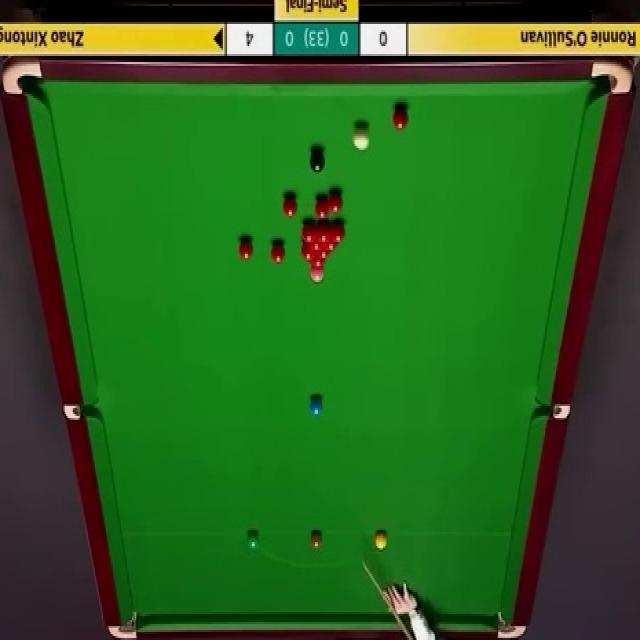black-ball: (309, 146, 325, 175)
blue-ball: (310, 393, 323, 417)
brown-ball: (309, 530, 323, 548)
green-ball: (246, 528, 260, 550)
pink-ball: (310, 268, 324, 284)
red-ball: (392, 104, 409, 132), (237, 236, 254, 262), (270, 240, 286, 265), (282, 194, 298, 217), (328, 190, 343, 214), (301, 221, 317, 243), (315, 197, 329, 219), (332, 220, 346, 242), (317, 223, 330, 243), (301, 242, 314, 260), (314, 250, 333, 260), (308, 258, 326, 268), (307, 242, 323, 252), (323, 242, 338, 251)
white-ball: (353, 121, 370, 151)
yellow-ball: (374, 530, 388, 550)
